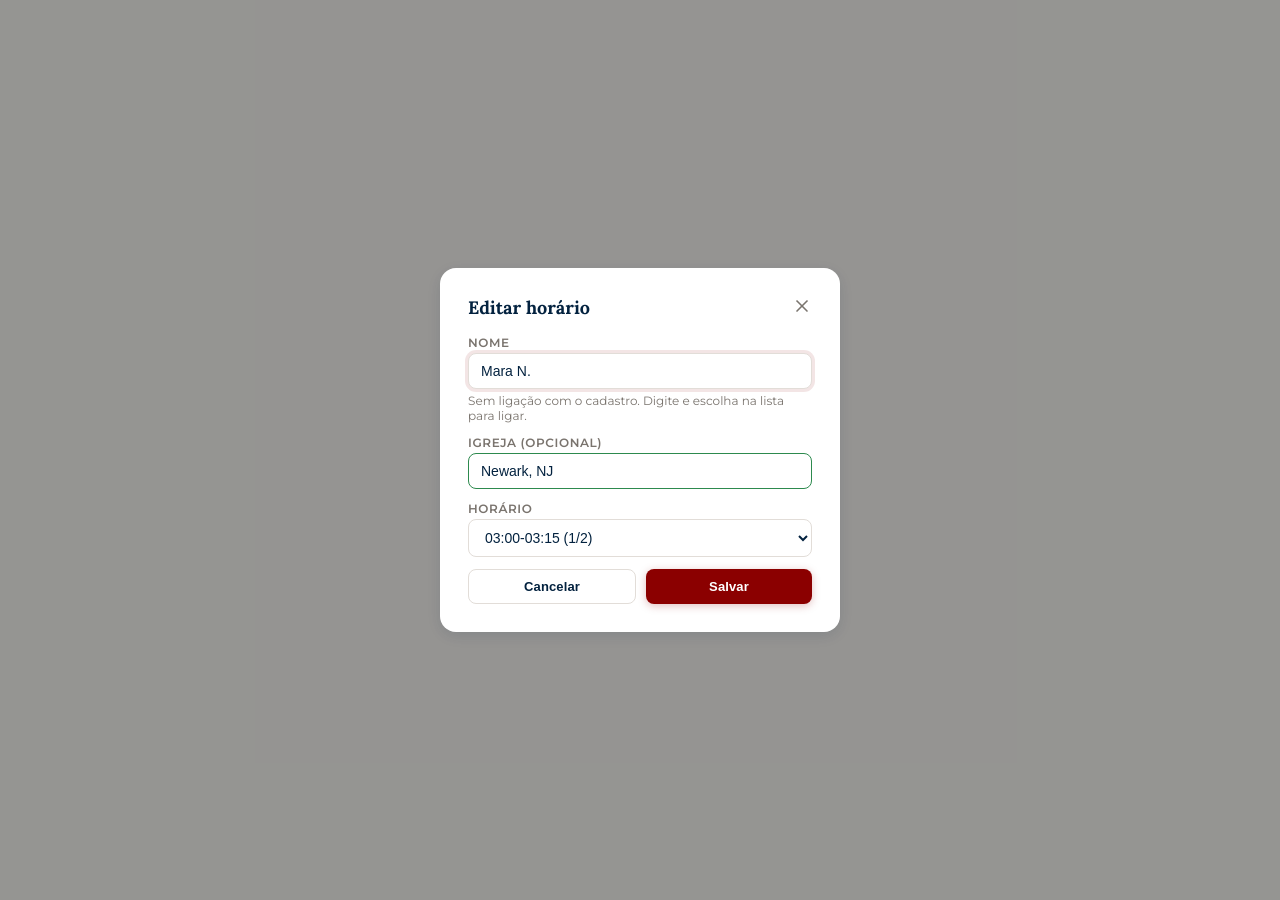
it: admin: edit one person of a prayer list › typing a different name afterwards drops the link
Replace the text in the field showing "Mara N." with "mara nu" at (640, 371), box [468,353,812,389]
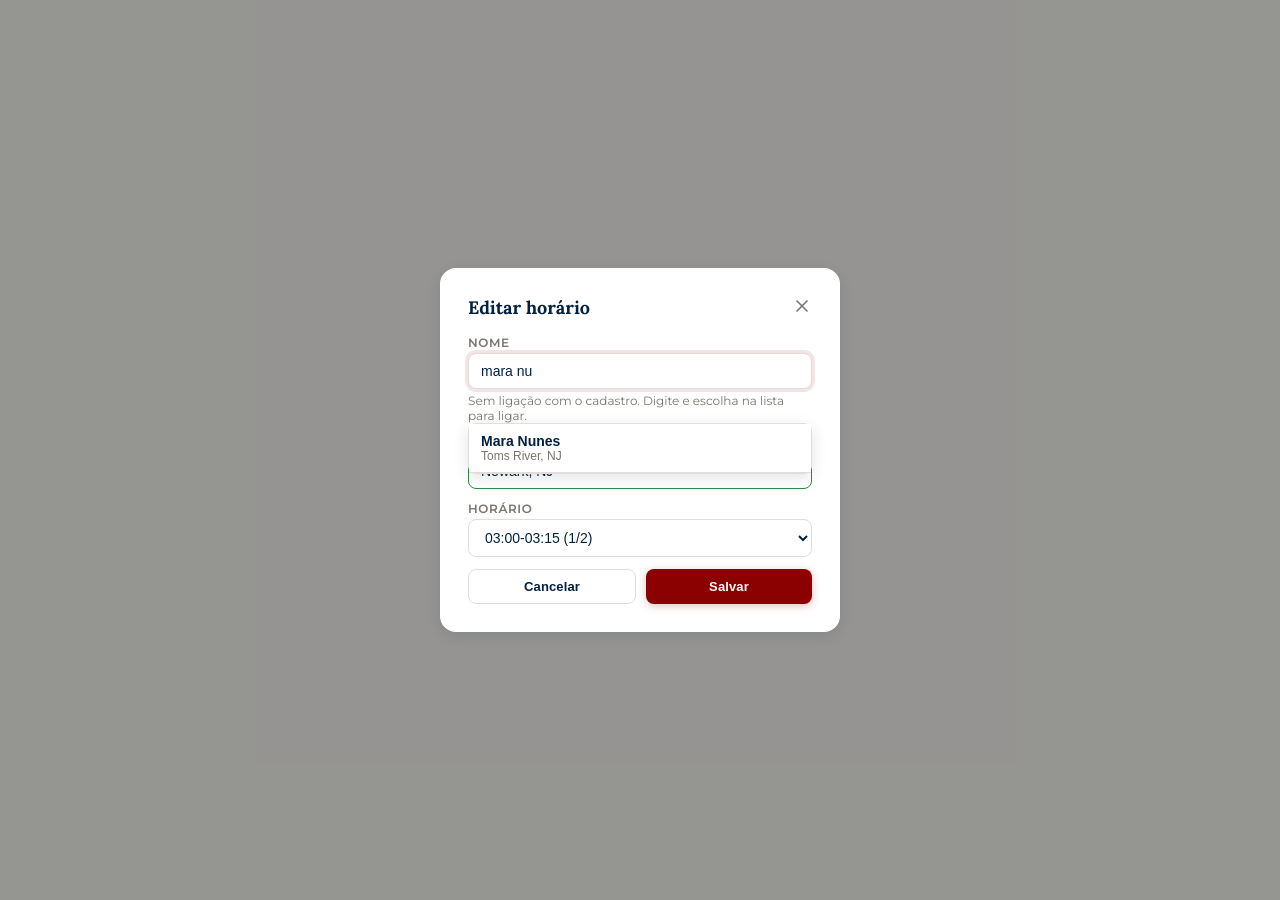
Click the button "Mara Nunes Toms River, NJ" at (521, 441), box [469,424,811,473]
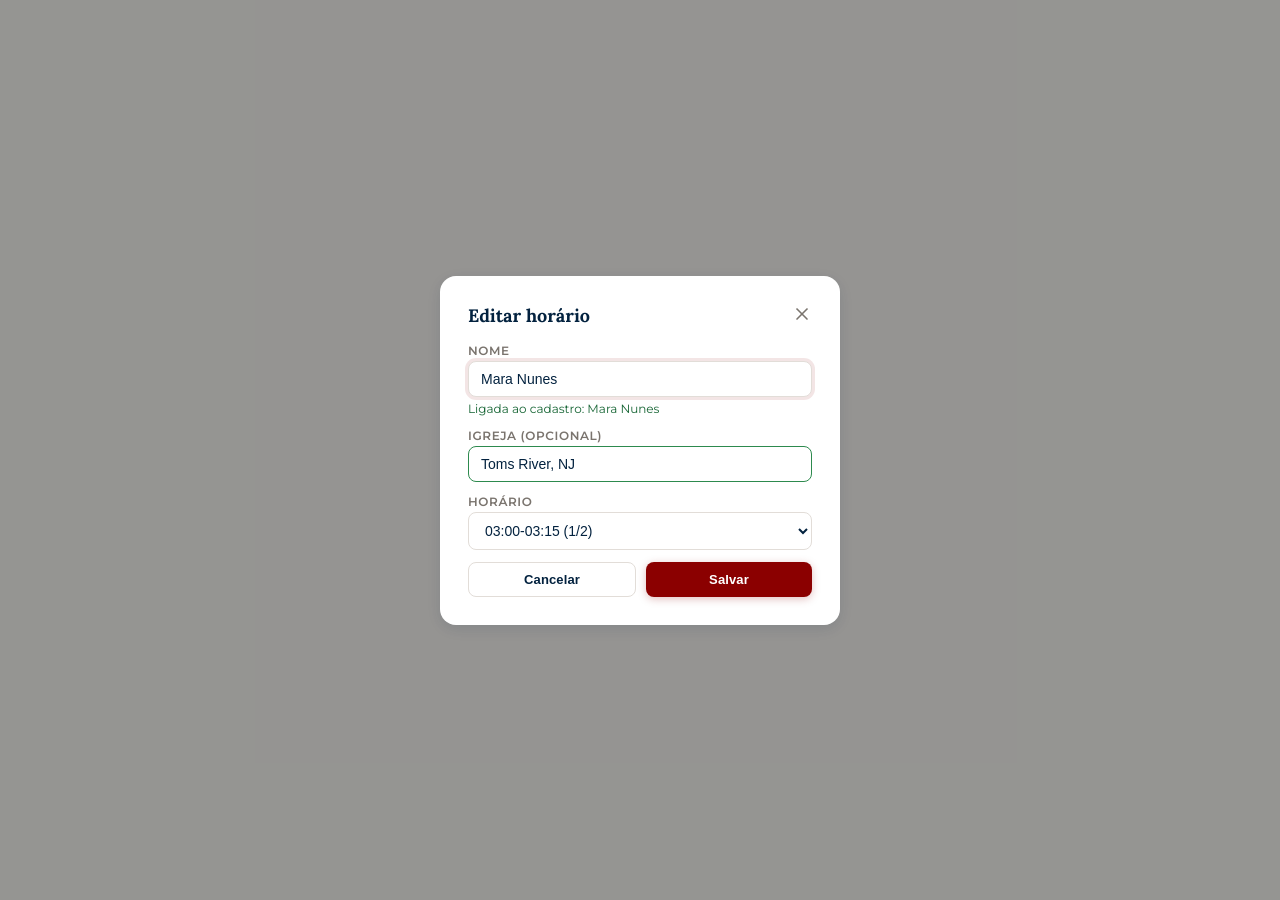
Replace the text in the field showing "Mara Nunes" with "Outra Pessoa" at (640, 378), box [468,360,812,396]
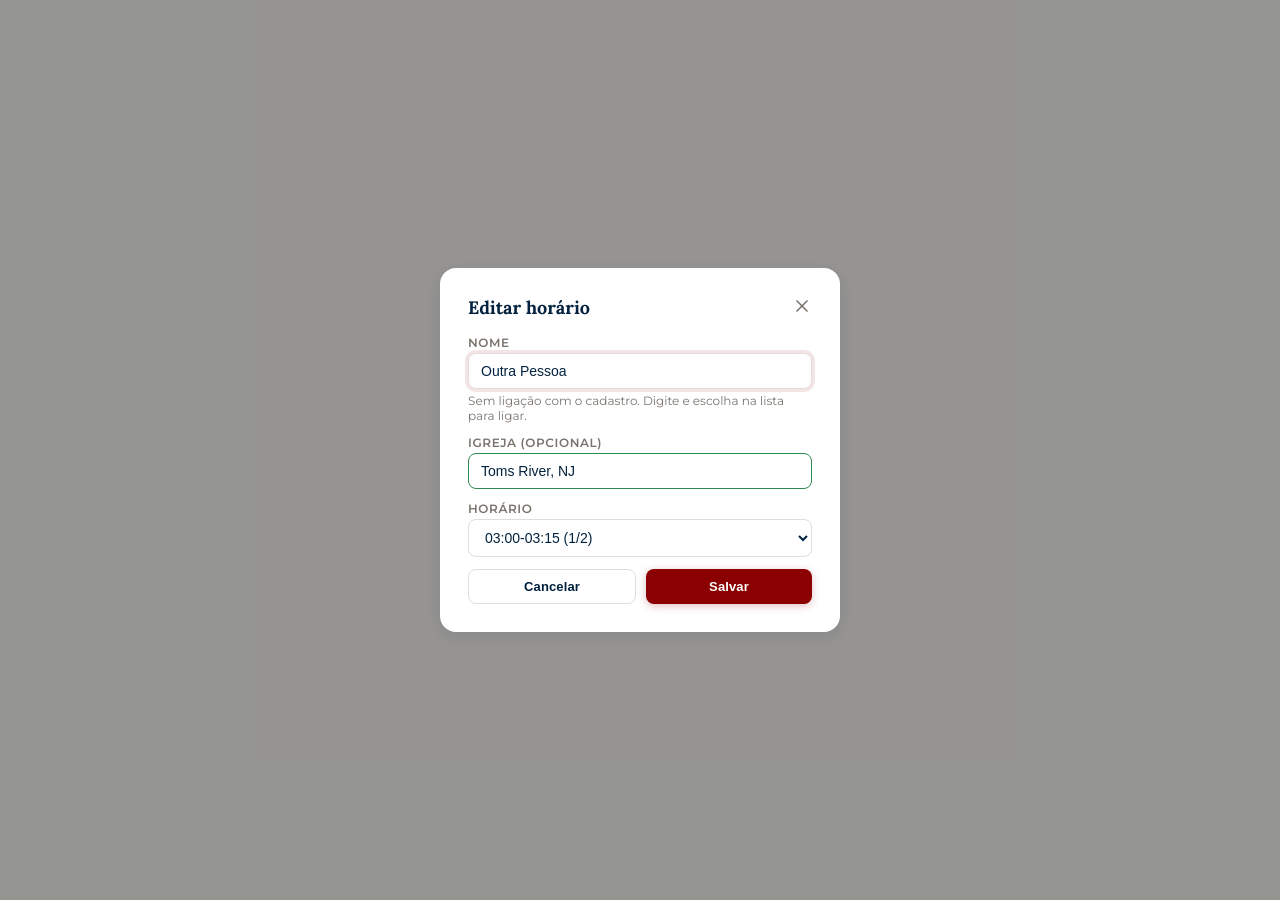
Now the text "Sem ligação com o cadastro. Digite e escolha na lista para ligar." is shown, box [468,393,812,423]
